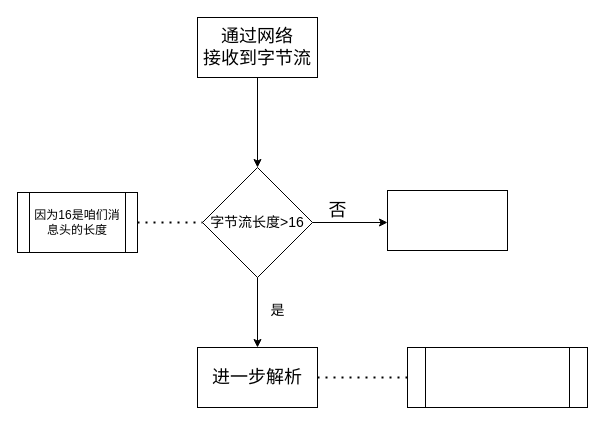
Image size: 605x425. Some labels were removed from this diagram. The shapes that lost their labels are listed below. From the top down, each one's box as (x1, y1, x2, y2) in pixels, then its label:
(386, 190, 508, 250): 不在进一步解析，等待数据到齐
(406, 346, 588, 408): 即得到《消息总长》，以及我们需要的实际长度。开始将《字节流中的数据写入到数据实体》当中
